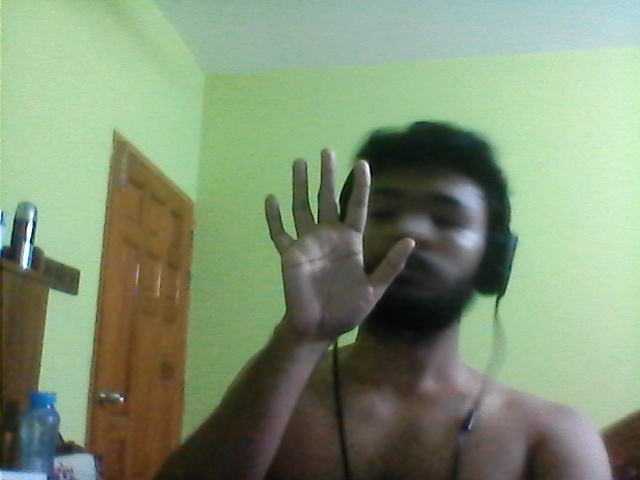Hello: (256, 148, 422, 346)
